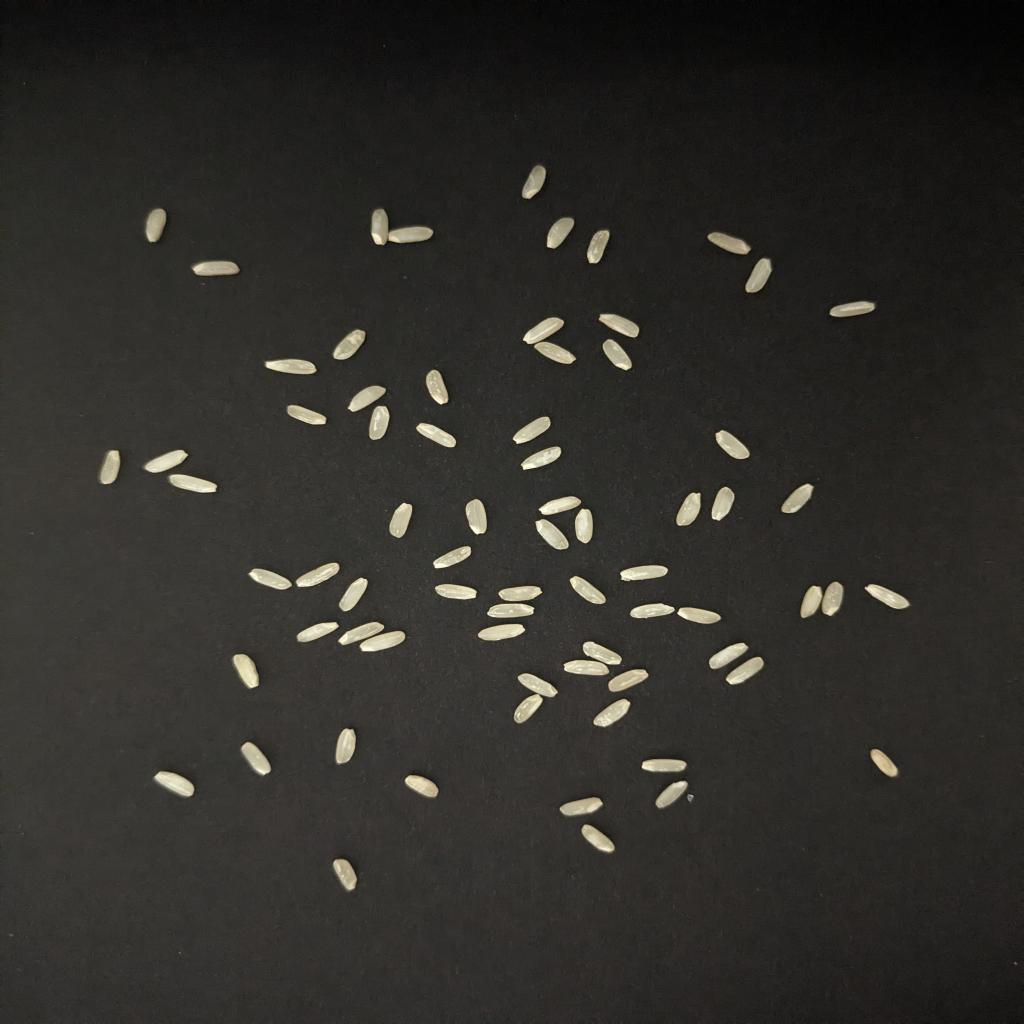good-rice: (296, 562, 341, 588), (866, 584, 911, 610), (522, 318, 565, 344), (727, 656, 764, 686), (594, 698, 631, 728), (338, 622, 384, 646), (709, 642, 748, 670), (240, 742, 272, 776), (535, 520, 570, 550), (154, 772, 194, 798), (514, 416, 551, 444), (717, 430, 751, 460), (338, 578, 368, 612), (581, 824, 615, 854), (168, 474, 218, 494), (248, 568, 293, 590), (360, 630, 405, 652), (570, 576, 605, 604), (349, 386, 386, 412), (599, 314, 639, 338), (602, 340, 634, 370), (333, 330, 365, 360), (522, 446, 562, 470), (780, 484, 812, 514), (517, 674, 557, 698), (416, 424, 455, 448), (709, 232, 751, 254), (533, 342, 575, 364), (144, 450, 186, 472), (583, 642, 621, 666), (655, 780, 687, 808), (746, 258, 772, 292), (232, 654, 258, 688), (607, 670, 647, 692), (546, 218, 575, 248), (514, 694, 543, 724), (828, 300, 876, 318), (477, 624, 525, 642), (621, 564, 669, 582), (538, 496, 581, 516), (559, 796, 602, 816), (264, 358, 317, 374), (296, 622, 338, 642), (522, 164, 546, 198), (144, 208, 168, 242), (586, 230, 610, 264), (711, 486, 735, 520), (677, 492, 701, 526), (389, 504, 413, 538), (820, 582, 844, 616), (405, 774, 439, 798), (434, 546, 471, 568), (389, 226, 434, 244), (677, 606, 722, 624), (871, 748, 898, 778), (192, 260, 240, 276), (799, 586, 823, 618), (333, 858, 357, 890), (336, 728, 357, 764), (370, 208, 389, 246), (288, 406, 328, 424), (565, 660, 610, 676), (426, 370, 447, 404), (368, 406, 389, 440), (466, 500, 487, 534), (99, 450, 120, 484), (434, 584, 477, 600), (498, 586, 541, 602), (575, 508, 594, 544), (487, 604, 535, 618), (642, 758, 687, 772), (631, 604, 674, 618)
